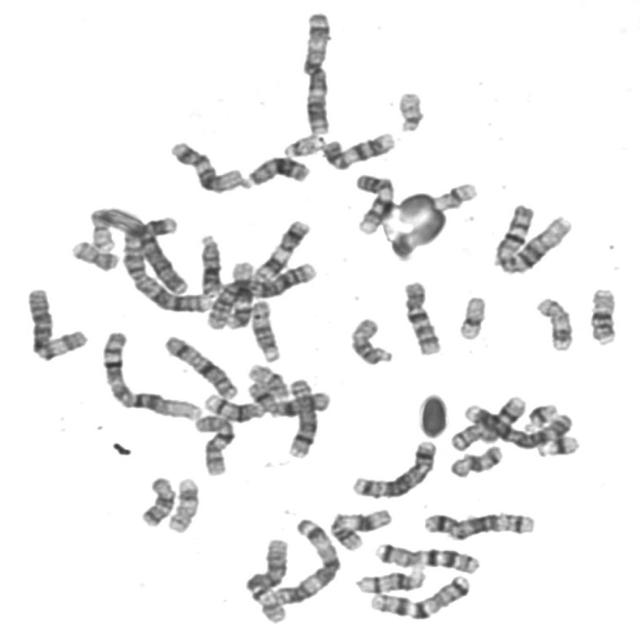A1: (96, 326, 204, 422), (488, 200, 576, 276)
A2: (118, 210, 214, 314), (200, 256, 320, 331)
A3: (265, 513, 343, 607), (298, 5, 336, 135)
B4: (118, 211, 192, 297), (462, 399, 578, 451)
B5: (347, 436, 439, 500), (420, 507, 538, 541)
C10: (398, 276, 444, 357), (191, 409, 239, 478)
C11: (250, 215, 313, 283), (326, 503, 395, 552)
C12: (165, 135, 250, 194), (223, 255, 256, 331)
C6: (21, 282, 92, 362), (241, 533, 293, 625)
C7: (365, 571, 474, 621), (372, 538, 484, 576)
C8: (448, 391, 530, 453), (283, 375, 320, 460)
C9: (319, 128, 397, 172), (351, 169, 398, 236)
D13: (241, 150, 314, 189), (194, 228, 224, 298)
D14: (351, 565, 429, 595), (201, 388, 269, 422)
D15: (346, 313, 396, 367), (246, 296, 284, 364)
E16: (585, 283, 621, 346), (245, 361, 290, 400)
E17: (532, 292, 577, 353), (163, 474, 202, 534)
E18: (445, 440, 506, 479), (136, 473, 178, 529)
F19: (428, 177, 480, 215), (454, 292, 489, 342)
F20: (66, 234, 121, 273), (89, 208, 116, 253)
G21: (519, 398, 561, 433), (533, 431, 582, 458)
G22: (392, 86, 427, 134), (279, 130, 326, 158)
X: (159, 330, 242, 401), (244, 377, 334, 417)
